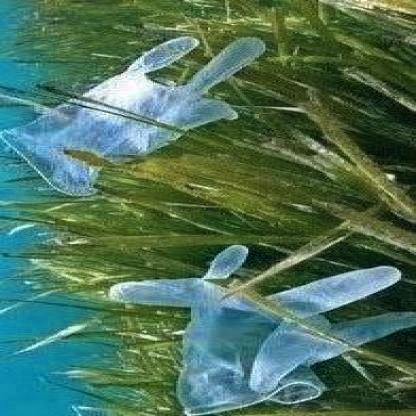glove: (110, 239, 414, 415), (2, 30, 261, 205)
